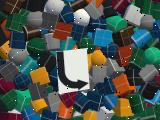Left: (56, 48, 90, 94)
